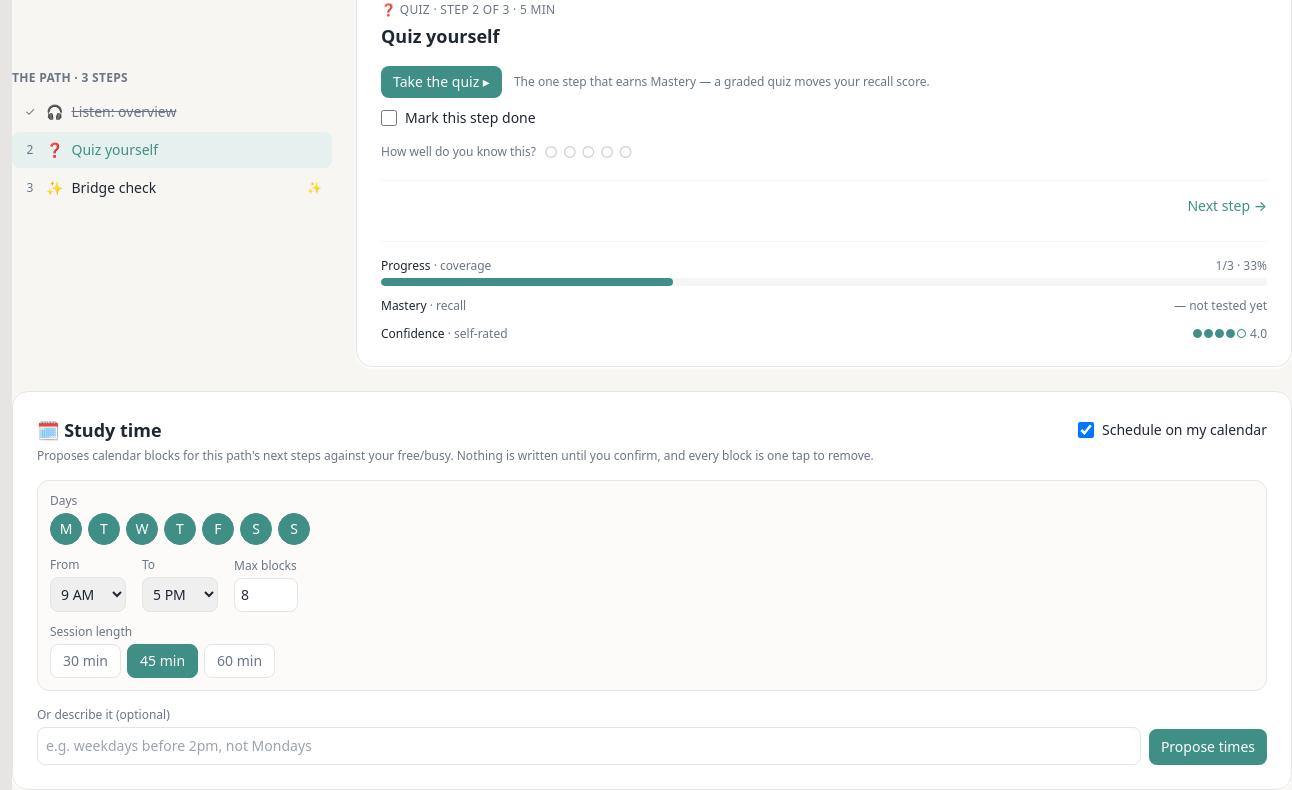
PathPlayer — Study Scheduler surface › proposes a batch then writes it on confirm
(page scrolled)
Click the button "Propose times": [1208, 747] box [1149,729,1267,765]
(page scrolled)
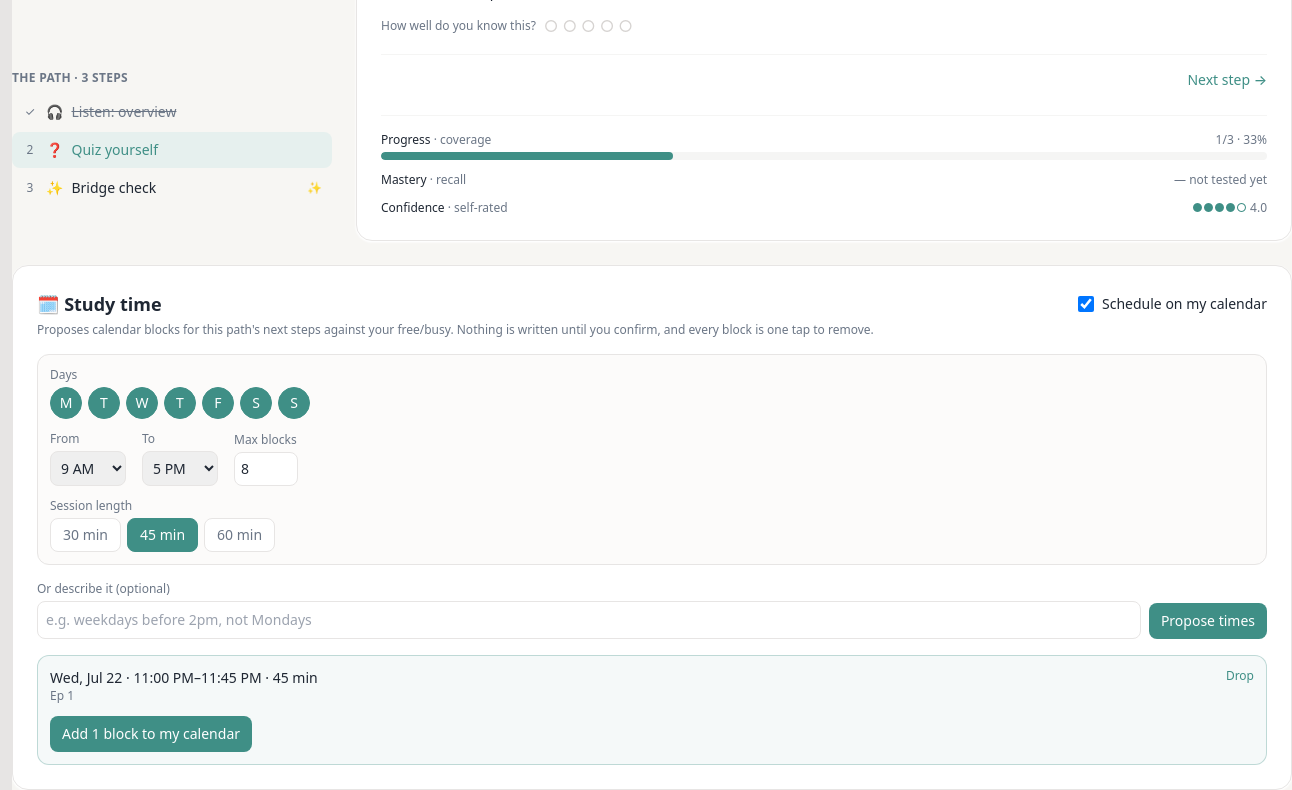
Click the button "Add 1 block to my calendar": [151, 734] box [50,716,252,752]
(page scrolled)
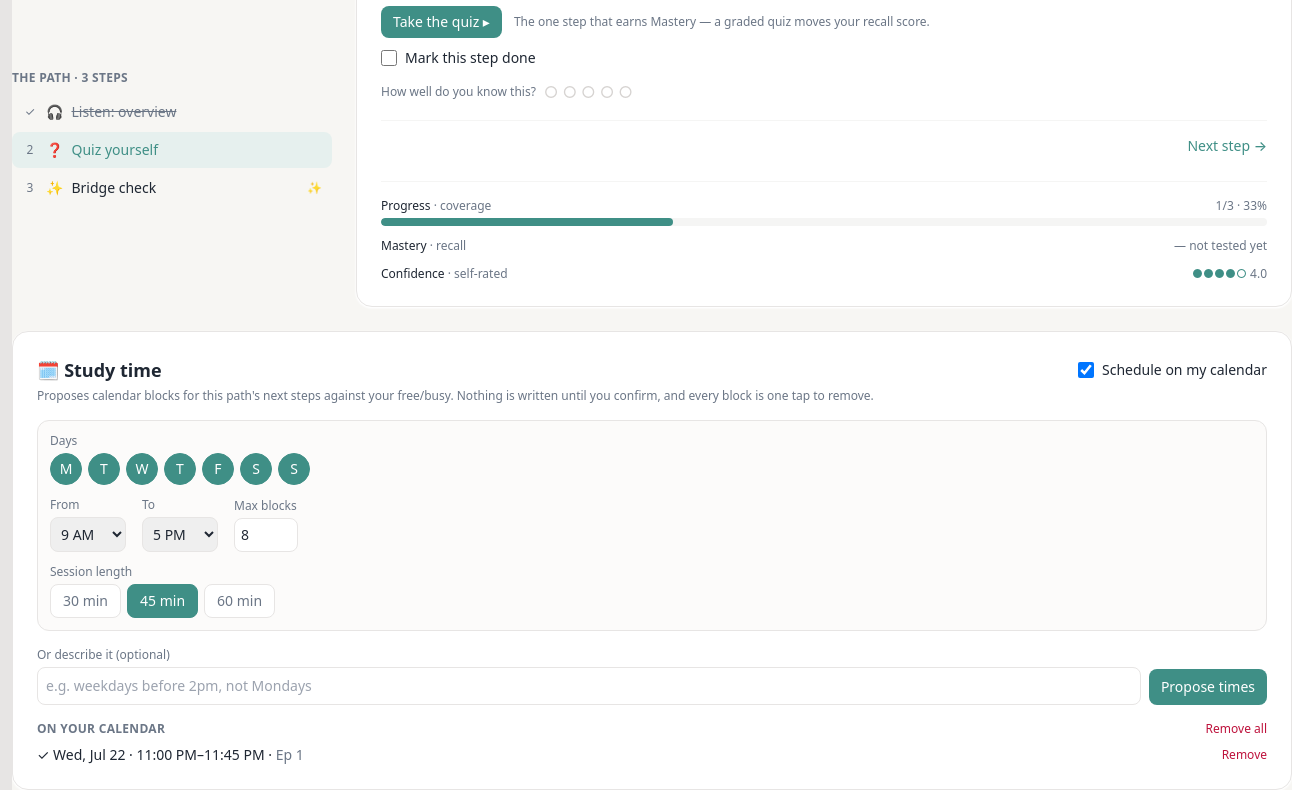
expect the text "On your calendar" is shown: met, box [37,721,165,737]
